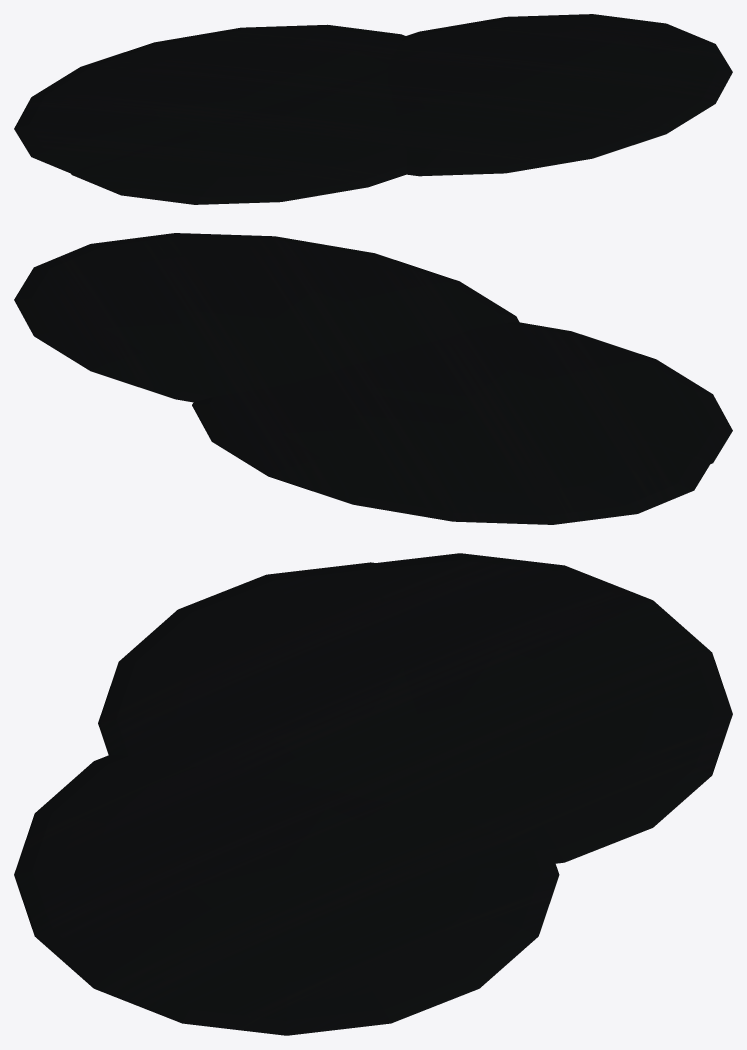
The model's file is PROP-DED91ED32490_lod0.glb.
3 views of the same model, one above another, from view 1: azimuth 30°, elevation 25°; view 2: azimuth 150°, elevation 25°; view 3: azimuth 270°, elevation 25° (orthographic). The views are drawn at different scales.
Parts seen in each view (by area): view 1: surface_hazard.004; view 2: surface_hazard.004; view 3: surface_hazard.004.
Boxes of the visible parts, x1,y1,x2,y2 form: surface_hazard.004: (14,14,732,204); surface_hazard.004: (14,233,732,524); surface_hazard.004: (14,553,732,1035).
Bounding box in the file's own units: 1.78 × 0.036 × 1.12.
Materials: 1 (1 with a texture image).
